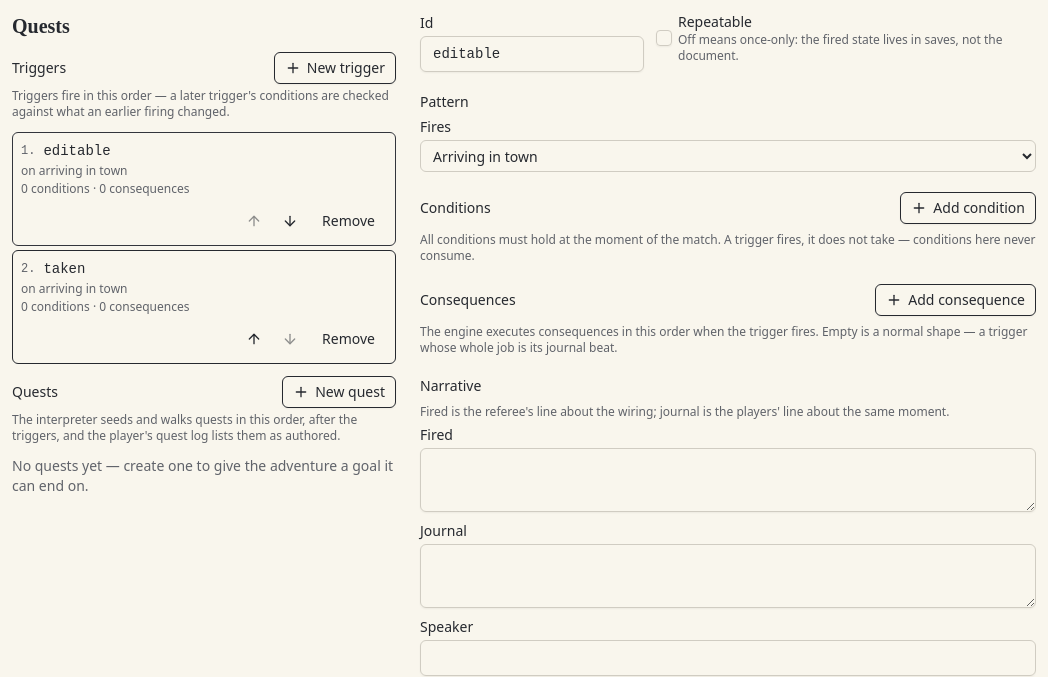
Test case: the inline rename prompt — an op_invariant on the id field stays in place
The width and height of the screenshot is (1048, 677).
Replace the text in the field labelled "Id" with "taken" at (532, 54), box [420,36,644,72]
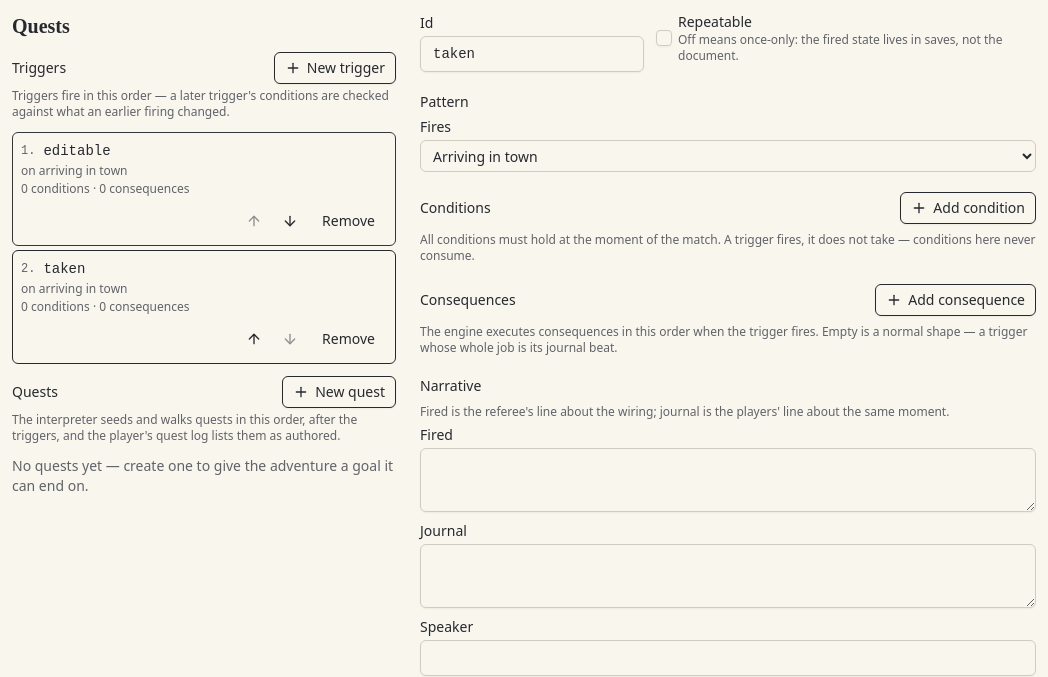
Leave the field labelled "Id", box [420,36,644,72]
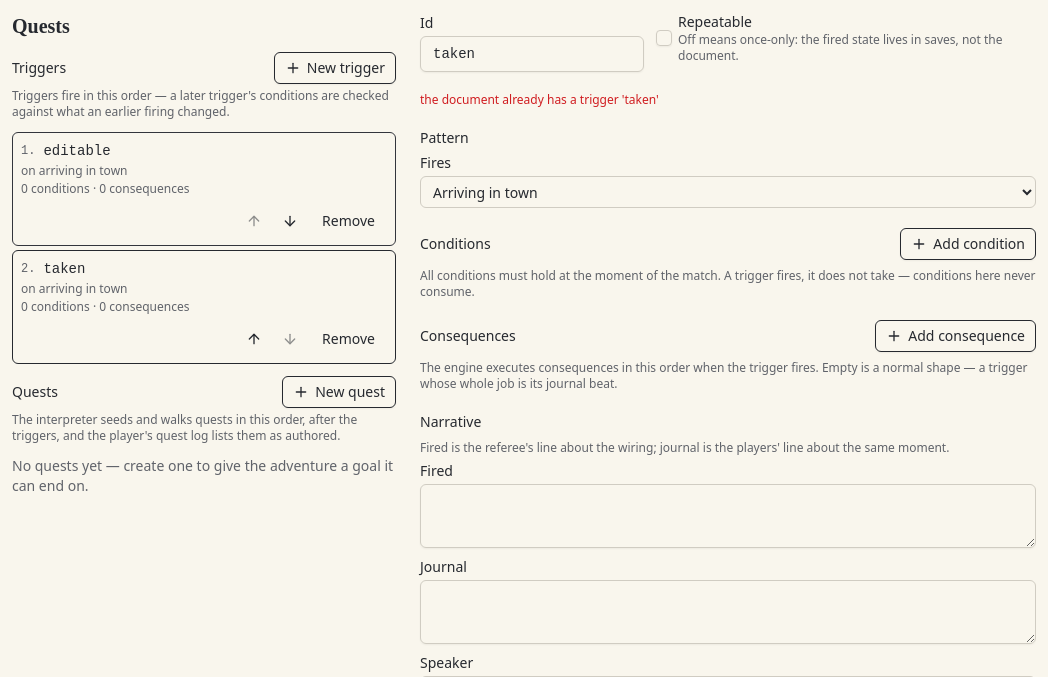
Now the text "the document already has a trigger 'taken'" is shown, box [420,91,659,108]
